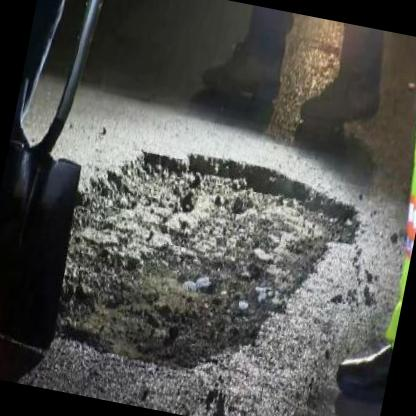pothole: (23, 122, 370, 396)
